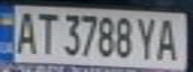3: (60, 10, 81, 56)
7: (78, 11, 100, 57)
8: (97, 12, 118, 59), (115, 13, 136, 60)
A: (154, 15, 184, 62), (12, 8, 39, 55)
T: (33, 9, 57, 56)
Y: (133, 15, 160, 62)
